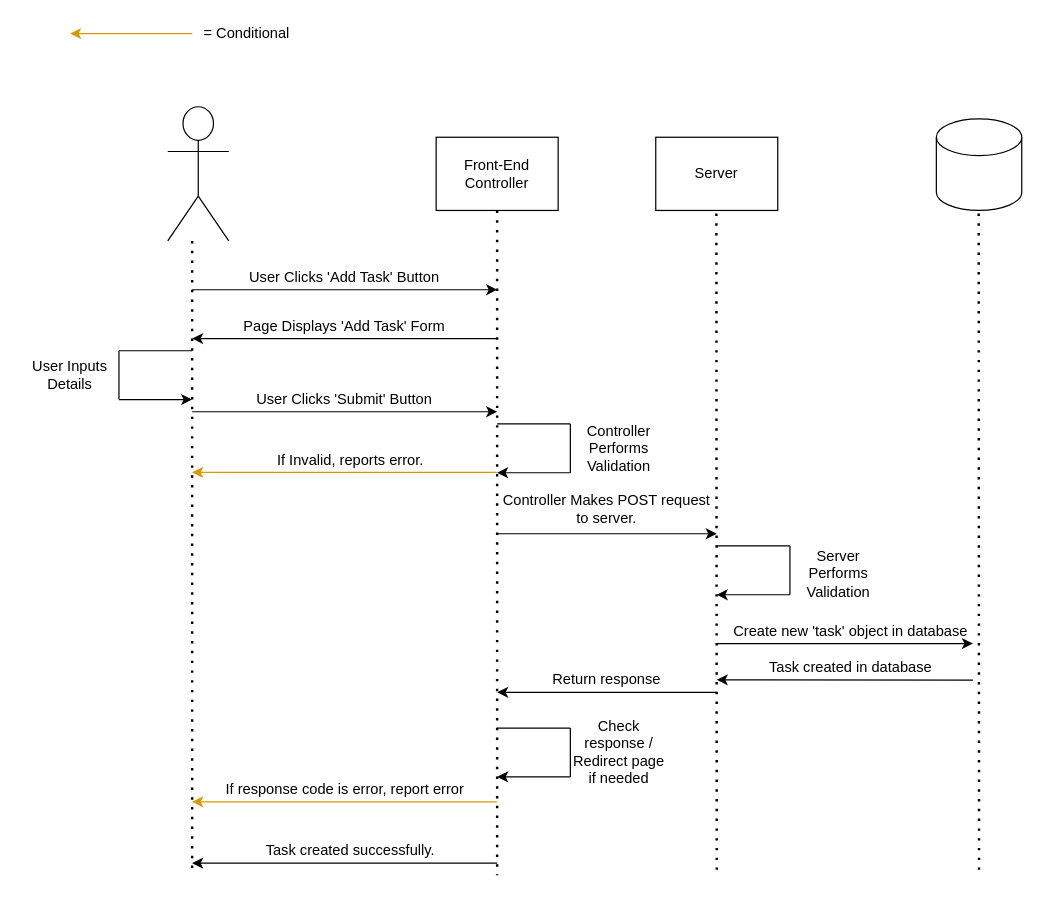
Image size: 1043x898. Some labels were removed from this diagram. Here are the shapes that lost their labels. From the top down, the box of each, then its label:
(167, 106, 229, 241): Actor
(935, 118, 1022, 210): Database
